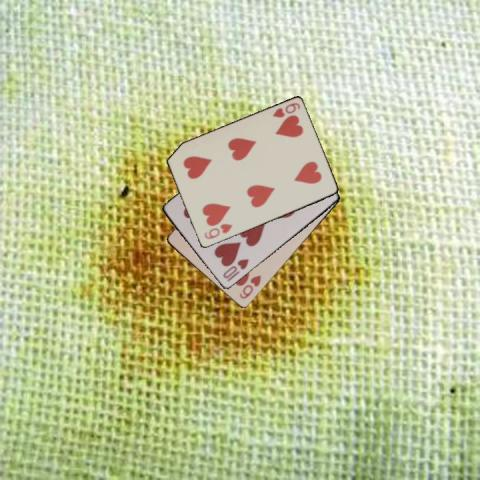10h: (220, 256, 251, 283)
6h: (236, 272, 263, 301), (201, 221, 234, 241), (270, 100, 302, 119)
